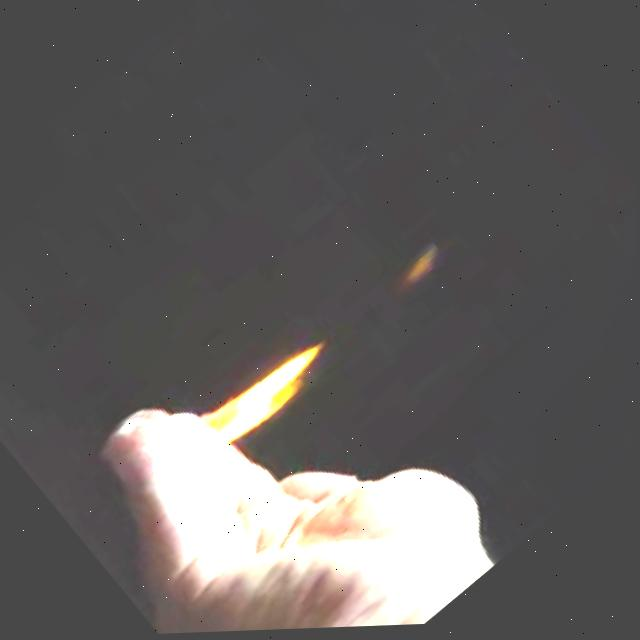Fire: (147, 321, 340, 496)
